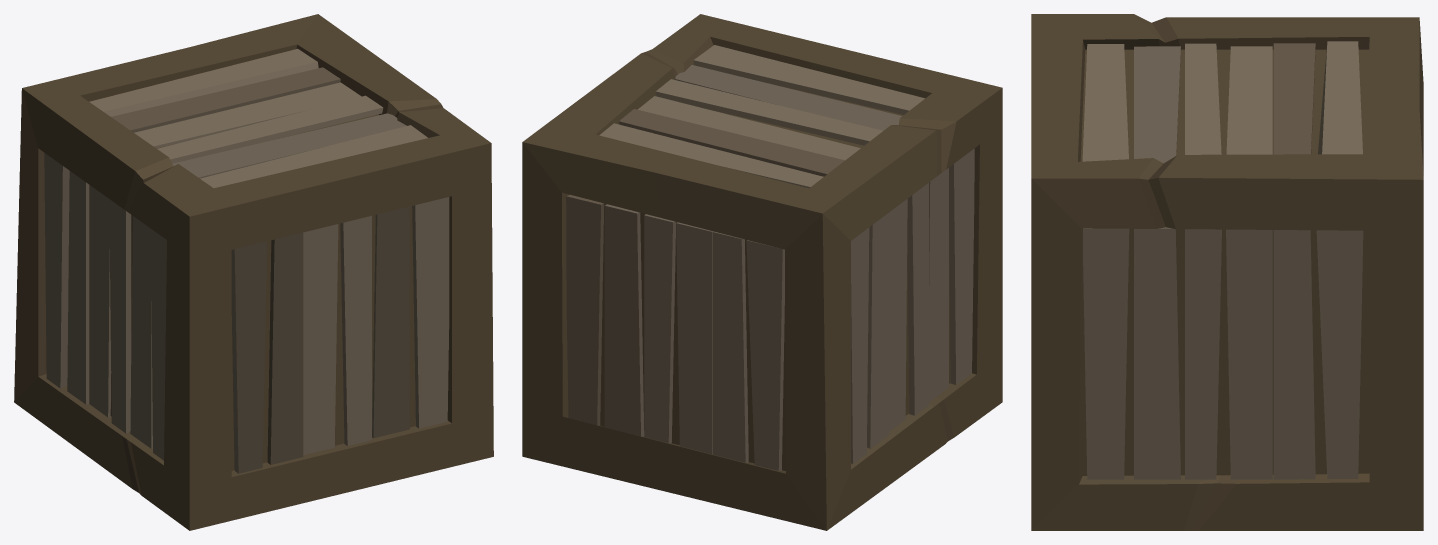
3 views of the same model, side by side, from view 1: azimuth 30°, elevation 25°; view 2: azimuth 150°, elevation 25°; view 3: azimuth 270°, elevation 25° (orthographic). The views are drawn at different scales.
Parts seen in each view (by area): view 1: basic_cube.001; view 2: basic_cube.001; view 3: basic_cube.001.
Boxes of the visible parts, <box> form: basic_cube.001: <box>14,14,493,530</box>; basic_cube.001: <box>522,14,1002,530</box>; basic_cube.001: <box>1031,14,1423,530</box>.
Bounding box in the file's own units: 1.9 × 1.9 × 1.9.
Materials: 1 (1 with a texture image).
